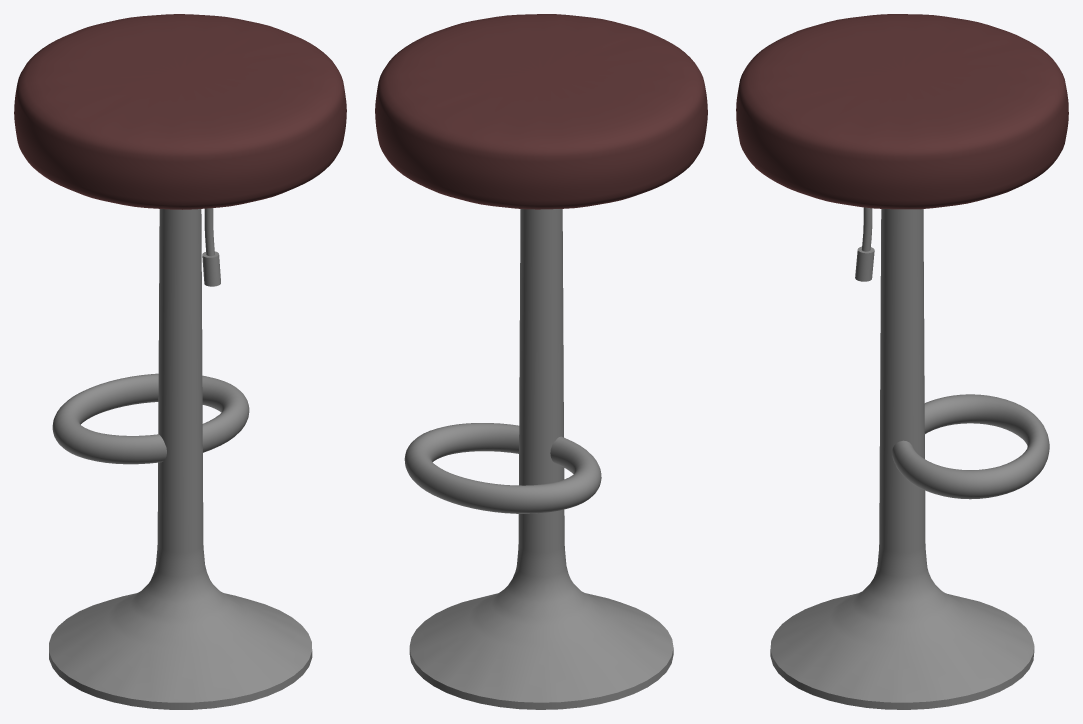
The model's file is Tabouret4_1.fbx.
3 renders of one model, left to right at view 1: azimuth 30°, elevation 25°; view 2: azimuth 150°, elevation 25°; view 3: azimuth 270°, elevation 25°, orthographic.
Parts seen in each view (by area): view 1: salle_de_jeu:pCylinder231, salle_de_jeu:pCylinder232, pTorus1, salle_de_jeu:pCylinder233; view 2: salle_de_jeu:pCylinder231, salle_de_jeu:pCylinder232, pTorus1; view 3: salle_de_jeu:pCylinder231, salle_de_jeu:pCylinder232, pTorus1, salle_de_jeu:pCylinder233.
Boxes of the visible parts, x1,y1,x2,y2 form: salle_de_jeu:pCylinder231: (14, 14, 346, 209); salle_de_jeu:pCylinder232: (49, 209, 312, 709); pTorus1: (52, 373, 249, 464); salle_de_jeu:pCylinder233: (202, 208, 220, 286); salle_de_jeu:pCylinder231: (375, 14, 707, 209); salle_de_jeu:pCylinder232: (409, 209, 673, 709); pTorus1: (404, 423, 601, 513); salle_de_jeu:pCylinder231: (736, 14, 1068, 209); salle_de_jeu:pCylinder232: (770, 209, 1034, 709); pTorus1: (892, 394, 1049, 499); salle_de_jeu:pCylinder233: (855, 207, 874, 281).
Size of the model in its own units: 32.76 by 63.14 by 32.76.
